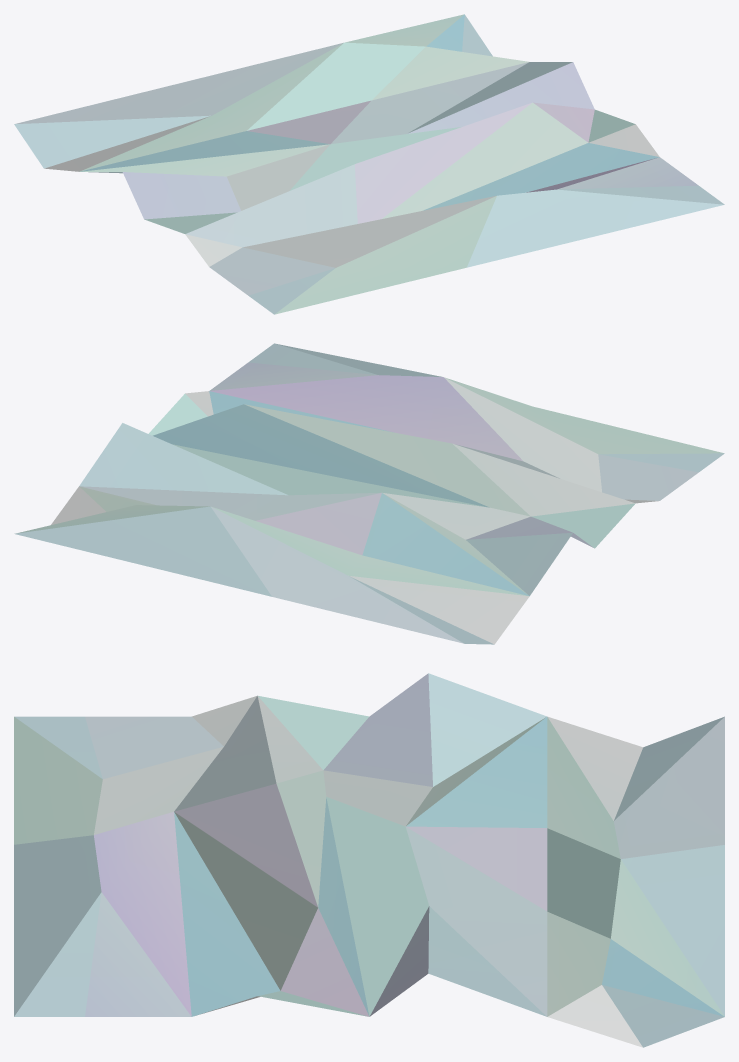
File: sm_ground_ice_0.fbx
The picture shows the model from 3 angles, top to bottom: view 1: azimuth 30°, elevation 25°; view 2: azimuth 150°, elevation 25°; view 3: azimuth 270°, elevation 25°; orthographic projection. The views are drawn at different scales.
Parts seen in each view (by area): view 1: sm_ground_ice_0; view 2: sm_ground_ice_0; view 3: sm_ground_ice_0.
Part boxes in pixels (<box>): sm_ground_ice_0: <box>14,14,724,314</box>; sm_ground_ice_0: <box>14,343,724,644</box>; sm_ground_ice_0: <box>14,673,724,1047</box>.
Bounding box in the file's own units: 26.71 × 200 × 200.
